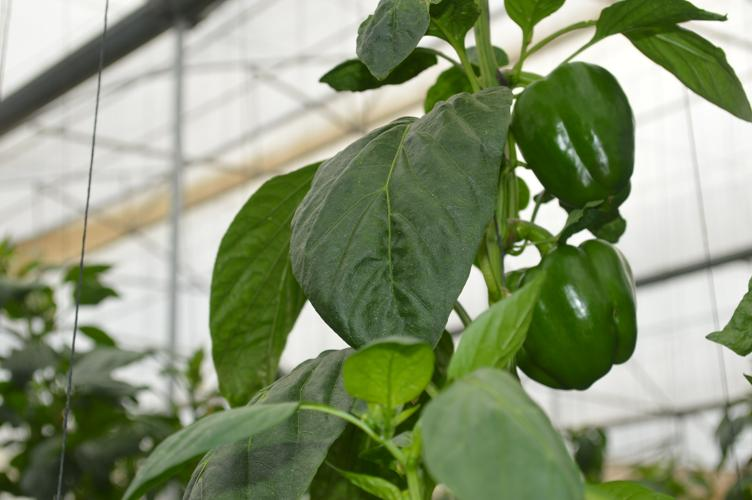BellPepper: (501, 240, 633, 386), (513, 63, 633, 201)
